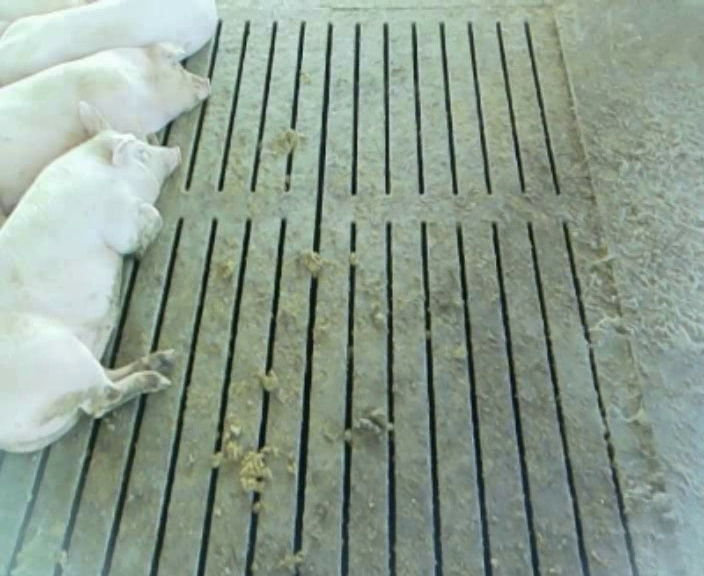pig: (0, 100, 179, 451), (0, 44, 209, 228), (0, 2, 216, 85)
